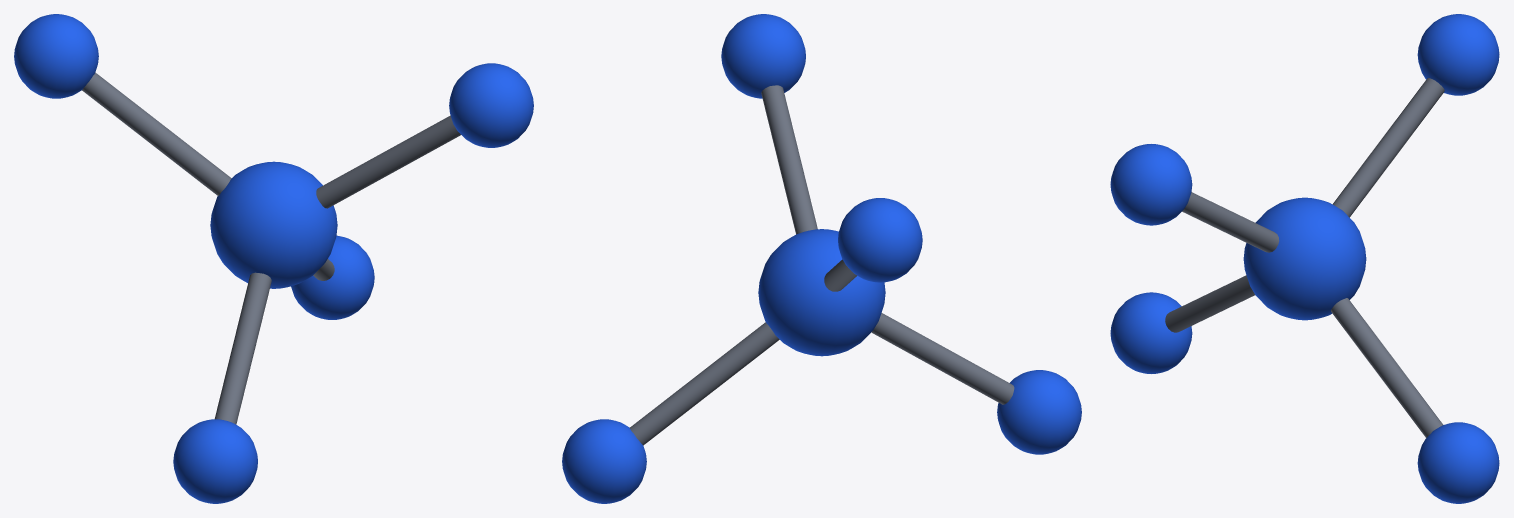
3 renders of one model, left to right at view 1: azimuth 30°, elevation 25°; view 2: azimuth 150°, elevation 25°; view 3: azimuth 270°, elevation 25°, orthographic. The views are drawn at different scales.
Parts seen in each view (by area): view 1: C1, H4, H1, H3, H2, object 8, object 6, object 9; view 2: C1, H3, H2, H4, H1, object 7, object 9, object 6, object 8; view 3: C1, H2, H1, H3, H4, object 7, object 8, object 6, object 9.
Part boxes in pixels (x1,y1,x2,y2): C1: [210, 161, 337, 288]; H4: [173, 419, 257, 503]; H1: [449, 63, 533, 147]; H3: [14, 14, 98, 98]; H2: [291, 235, 374, 319]; object 8: [82, 72, 231, 195]; object 6: [316, 115, 460, 208]; object 9: [214, 272, 271, 424]; C1: [758, 229, 885, 356]; H3: [838, 198, 922, 282]; H2: [562, 419, 646, 503]; H4: [997, 370, 1081, 454]; H1: [721, 14, 805, 98]; object 7: [630, 322, 779, 445]; object 9: [871, 313, 1014, 404]; object 6: [761, 85, 817, 234]; object 8: [824, 259, 856, 291]; C1: [1243, 197, 1366, 320]; H2: [1417, 422, 1499, 503]; H1: [1110, 144, 1192, 225]; H3: [1417, 14, 1499, 95]; H4: [1110, 292, 1192, 373]; object 7: [1331, 298, 1443, 437]; object 8: [1332, 78, 1444, 217]; object 6: [1182, 192, 1279, 252]; object 9: [1165, 275, 1254, 332].
Size of the model in its own units: 0.2852 by 0.2852 by 0.2852.
